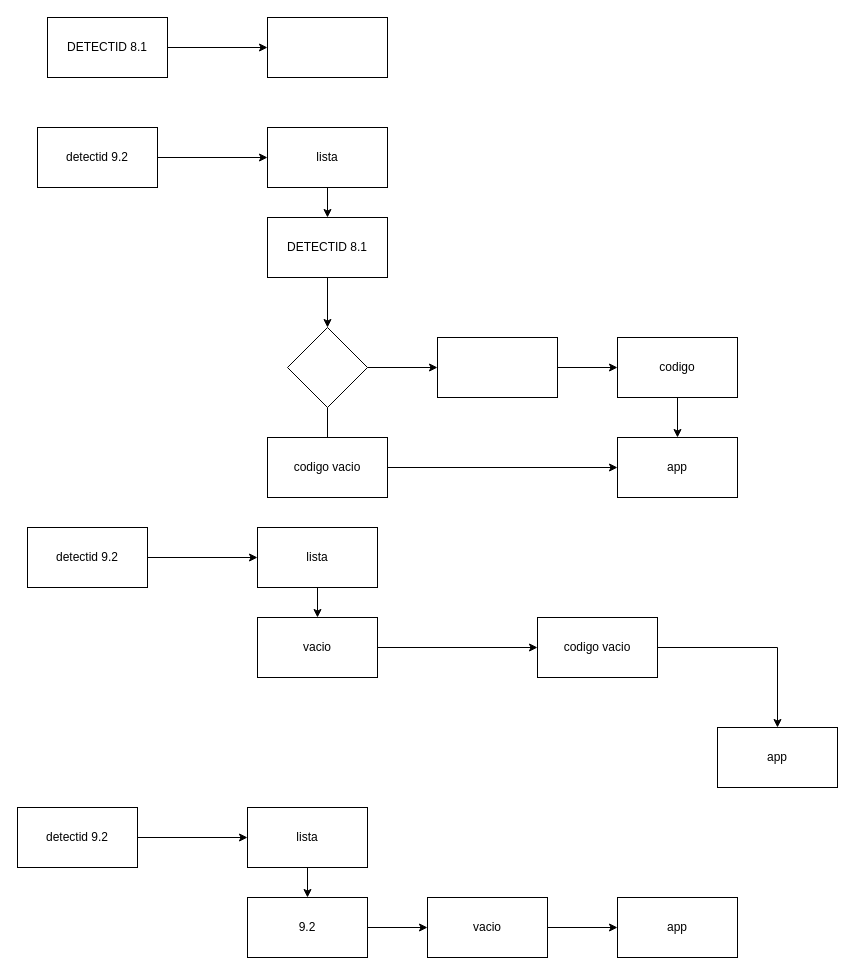
This 855x975 diagram has some shape labels left out. The shapes that lost their labels are listed below. From the top down, each one's box as (x1, y1, x2, y2) in pixels, then its label:
(266, 16, 388, 78): datos celular
(286, 326, 368, 408): es 8.1
(436, 336, 558, 398): remover
